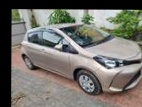car: (19, 23, 142, 96)
